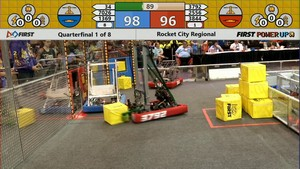cube: (213, 96, 244, 122), (245, 98, 277, 119), (102, 103, 129, 124), (240, 81, 268, 99), (240, 63, 267, 80), (117, 75, 133, 90), (114, 61, 127, 72)
